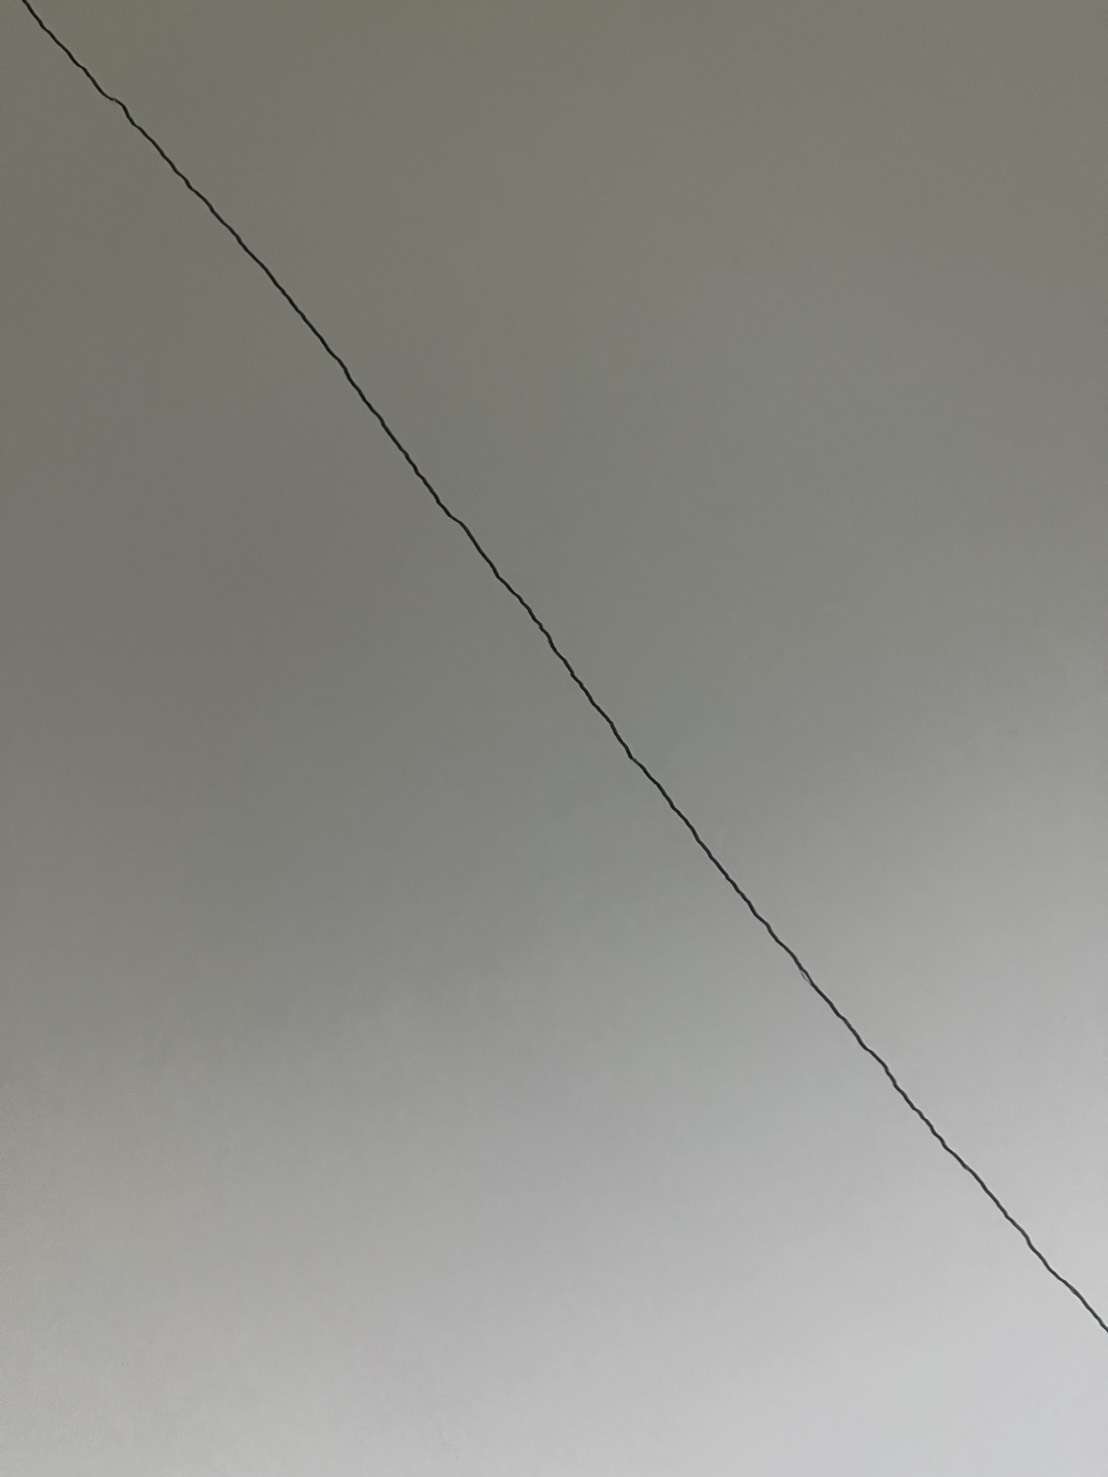Low: (16, 3, 1108, 1352)
